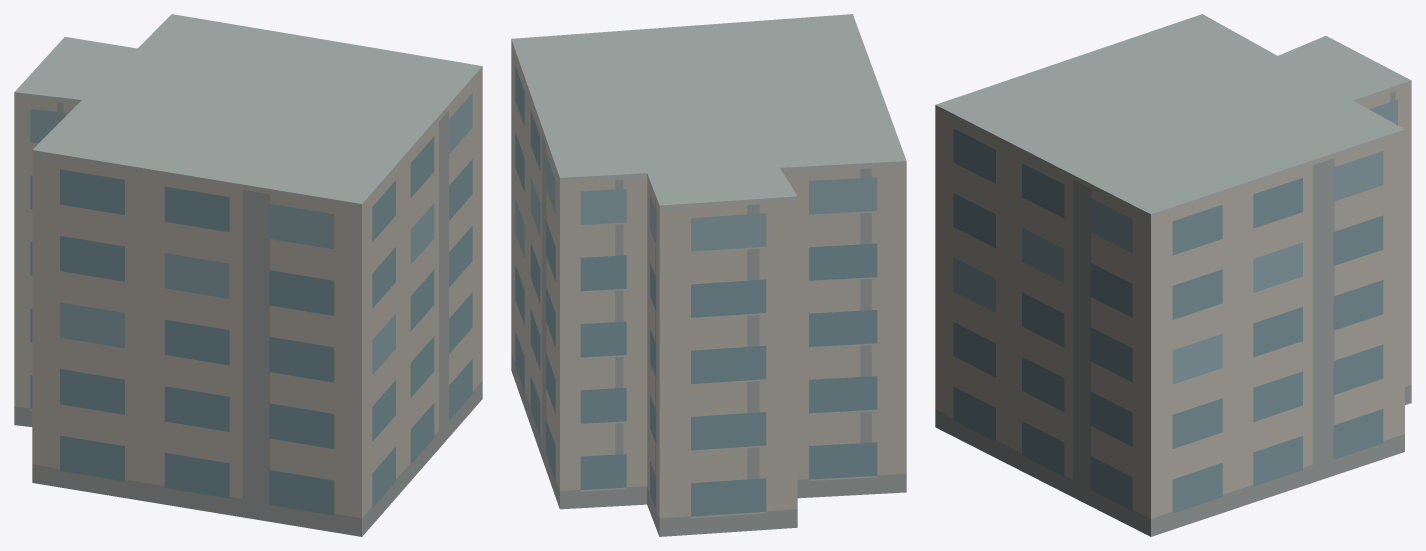
File: survey-upis-32843181.glb
The picture shows the model from 3 angles, left to right: view 1: azimuth 30°, elevation 25°; view 2: azimuth 150°, elevation 25°; view 3: azimuth 270°, elevation 25°; orthographic projection. The views are drawn at different scales.
Visible parts, largest first — view 1: survey-upis-32843181.tmp; view 2: survey-upis-32843181.tmp; view 3: survey-upis-32843181.tmp.
Part boxes in pixels (bbox=[...]): survey-upis-32843181.tmp: bbox=[14, 14, 482, 536]; survey-upis-32843181.tmp: bbox=[511, 14, 906, 536]; survey-upis-32843181.tmp: bbox=[935, 14, 1411, 536].
Size of the model in its own units: 20.33 by 15.25 by 20.41.
